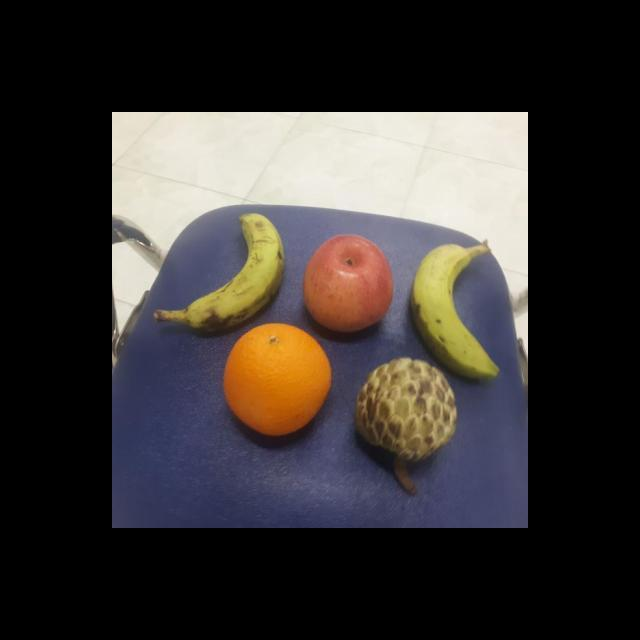Sakya fruit: (350, 356, 460, 462)
apple: (300, 232, 397, 336)
banana: (409, 238, 504, 380), (183, 212, 291, 335)
orange: (221, 324, 333, 438)
